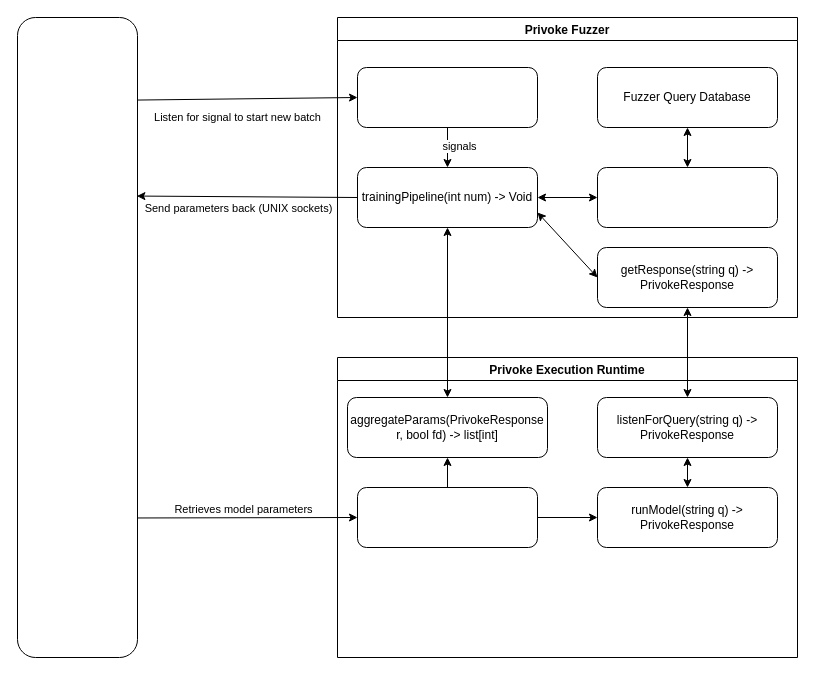
Some shapes in this 815 by 675 pixel diagram are drawn without their labels. Each missing label, with the centre of its shape:
"generateQuery(int num) -> list[string]" goes at point 687,197.
"getModel() -> PrivokeModel" goes at point 447,517.
"listenForBatch() -> int" goes at point 447,97.
"Privoke Model Manager Servers" goes at point 77,337.
